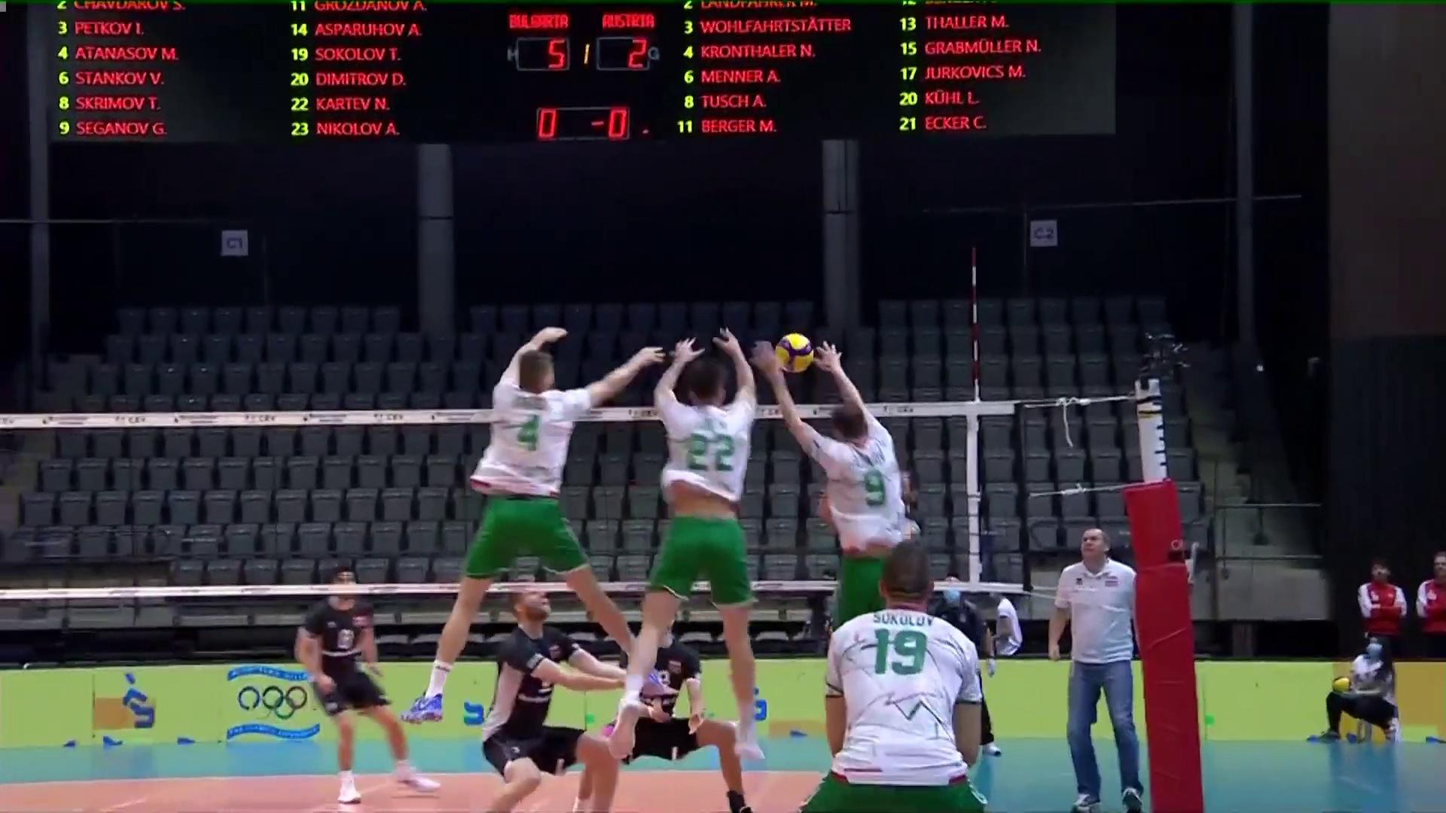ball: (774, 332, 815, 374)
